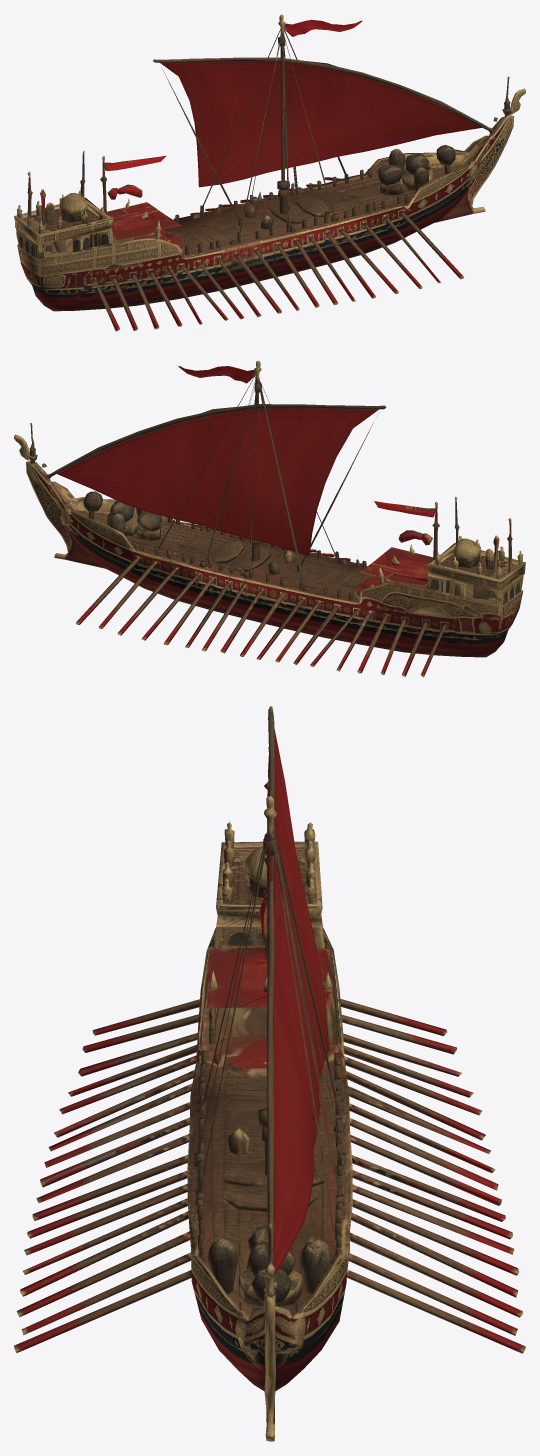
File: Meshy_AI_model.glb
3 renders of one model, top to bottom at view 1: azimuth 30°, elevation 25°; view 2: azimuth 150°, elevation 25°; view 3: azimuth 270°, elevation 25°, orthographic. The views are drawn at different scales.
Size of the model in its own units: 1 by 0.4848 by 0.4759.
1 material, 1 textured.
